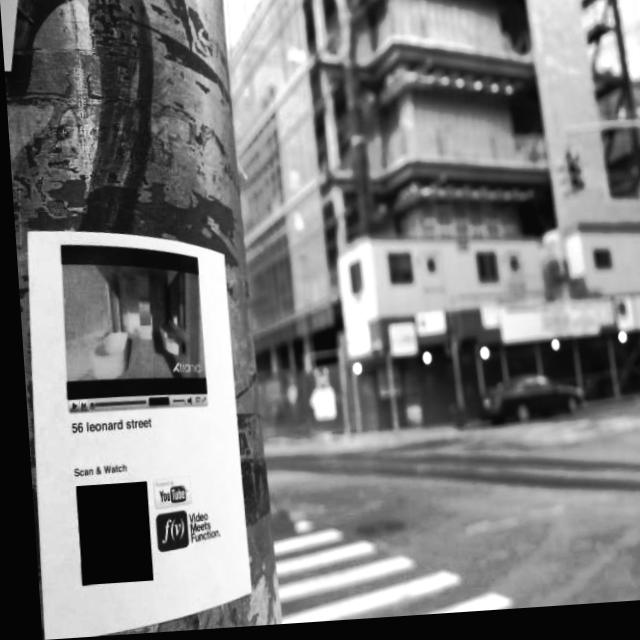qr_code: (70, 483, 145, 586)
